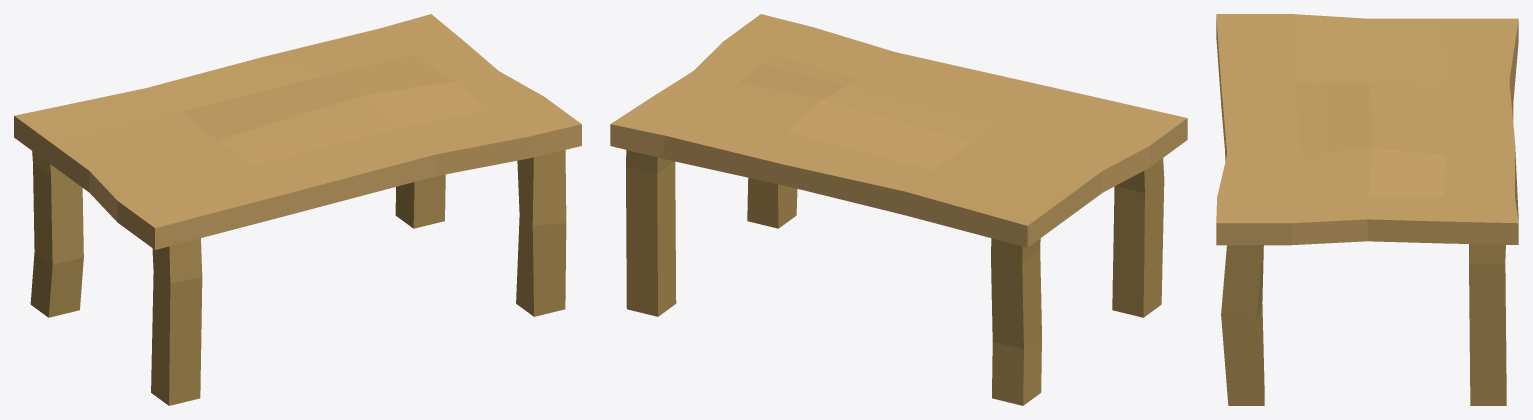
The model's file is Wood_tabke.fbx.
3 renders of one model, left to right at view 1: azimuth 30°, elevation 25°; view 2: azimuth 150°, elevation 25°; view 3: azimuth 270°, elevation 25°, orthographic.
Visible parts, largest first — view 1: Wood_tabke; view 2: Wood_tabke; view 3: Wood_tabke.
Boxes of the visible parts, <box> form: Wood_tabke: <box>14,14,581,405</box>; Wood_tabke: <box>610,14,1187,405</box>; Wood_tabke: <box>1216,14,1518,405</box>.
Size of the model in its own units: 382 by 165 by 233.
